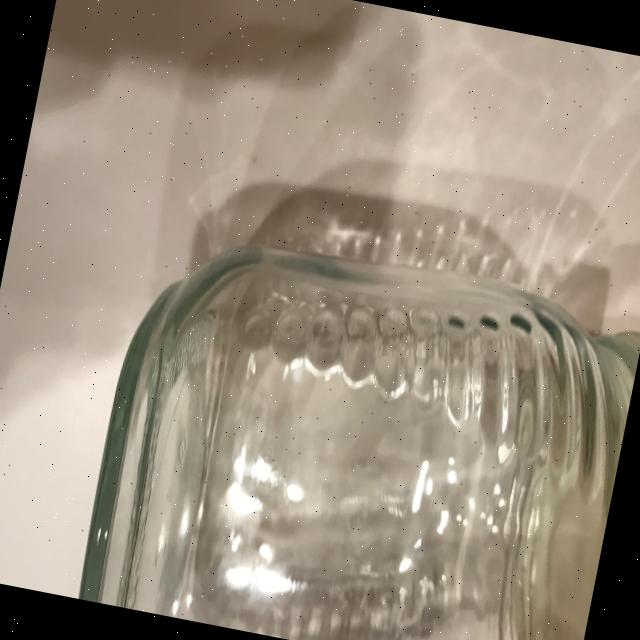glass: (74, 211, 640, 640)
